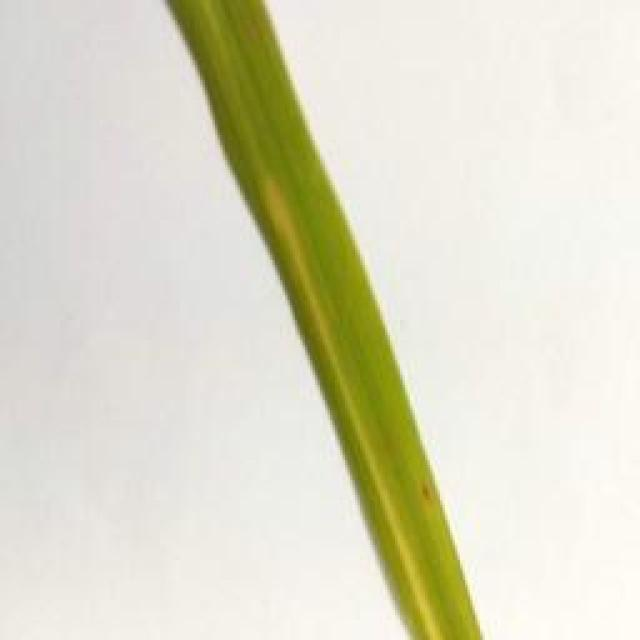Bacterial_Blight: (262, 173, 457, 640)
Brown_Spot: (406, 468, 437, 506)
